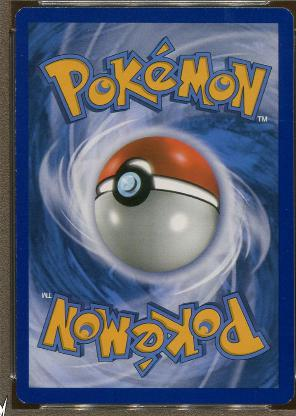Card: (11, 6, 293, 408)
Corner Wear: (12, 6, 27, 20), (277, 392, 293, 404), (16, 392, 28, 404)
Edge Wear: (14, 185, 18, 281), (15, 78, 17, 156), (34, 6, 74, 8), (15, 168, 17, 172)
Scratch: (253, 390, 256, 400), (277, 120, 286, 122)
